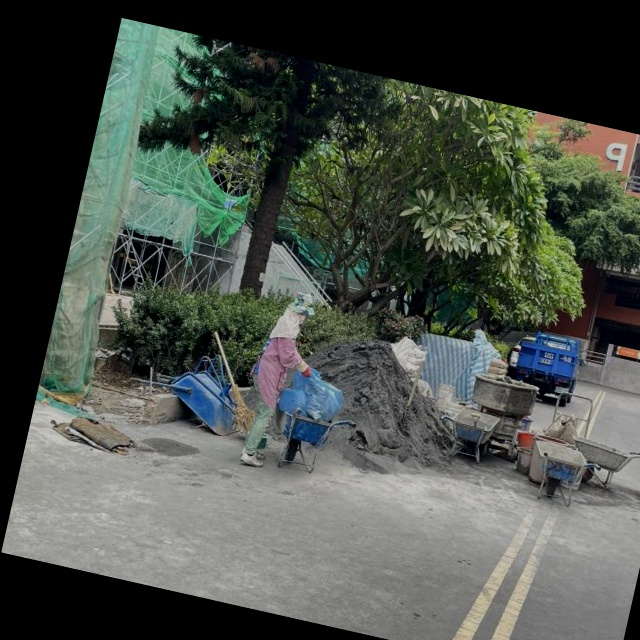Sin_Casco_Mascarrilla: (287, 291, 317, 328)
Sin_Chaleco: (248, 318, 301, 401)
